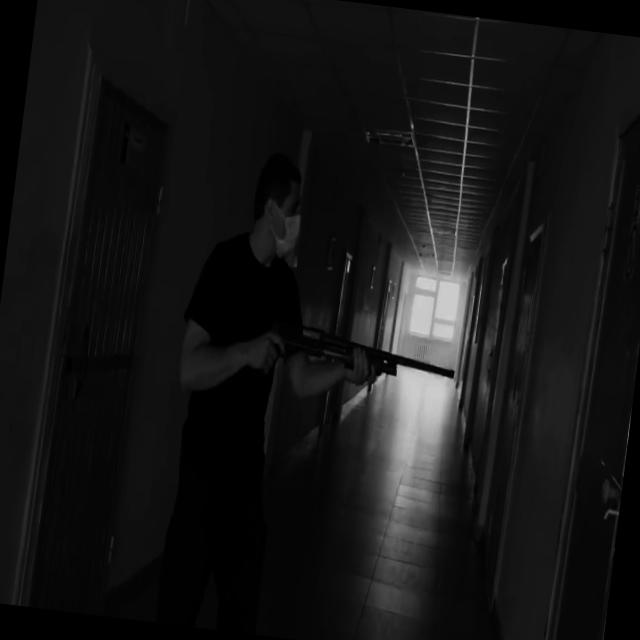gun: (262, 314, 460, 396)
person with a gun: (146, 141, 479, 640)
